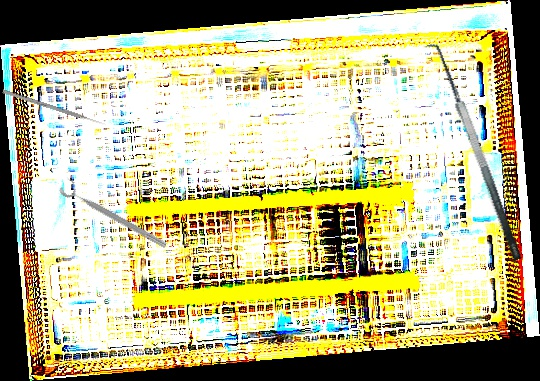Fixation Ring: (57, 176, 173, 251)
Pusher: (2, 89, 107, 127)
Spatula Surgical: (419, 38, 523, 268)
